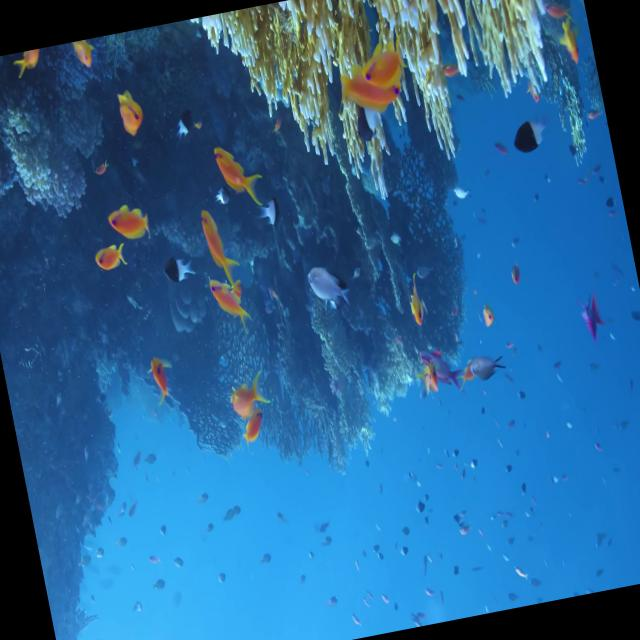fish: (333, 44, 412, 119), (212, 140, 261, 207), (207, 273, 253, 336), (306, 260, 352, 314), (226, 374, 274, 422), (107, 198, 151, 242), (467, 352, 512, 384), (92, 240, 128, 275), (164, 252, 198, 288)
